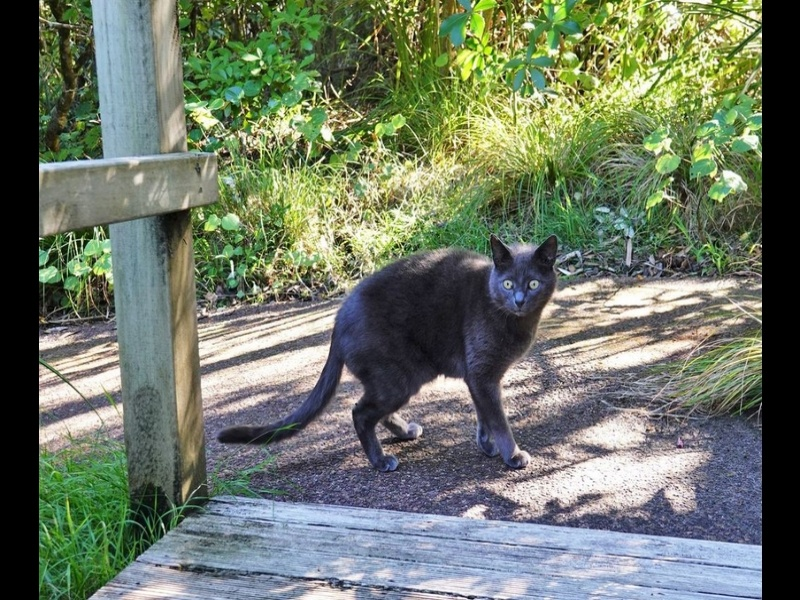cat: (214, 233, 563, 481)
